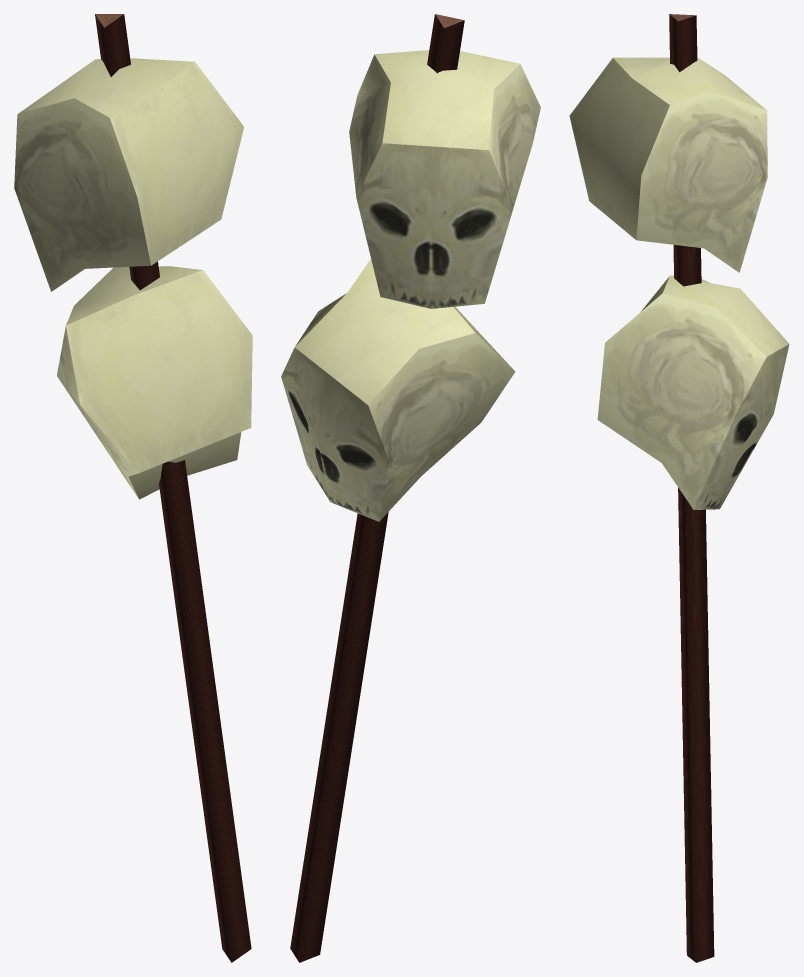
File: Skull Pole.FBX
The picture shows the model from 3 angles, left to right: view 1: azimuth 30°, elevation 25°; view 2: azimuth 150°, elevation 25°; view 3: azimuth 270°, elevation 25°; orthographic projection. The views are drawn at different scales.
Visible parts, largest first — view 1: Box002, Box006, Cylinder007; view 2: Box002, Box006, Cylinder007; view 3: Box002, Box006, Cylinder007.
Boxes of the visible parts, x1=… form: Box002: x1=14, y1=58, x2=243, y2=291; Box006: x1=57, y1=266, x2=252, y2=499; Cylinder007: x1=95, y1=14, x2=251, y2=962; Box002: x1=349, y1=50, x2=540, y2=308; Box006: x1=281, y1=259, x2=515, y2=521; Cylinder007: x1=290, y1=14, x2=464, y2=962; Box002: x1=569, y1=57, x2=767, y2=272; Box006: x1=597, y1=275, x2=789, y2=509; Cylinder007: x1=669, y1=14, x2=714, y2=962.
Bounding box in the file's own units: 39.75 × 161 × 36.19.
